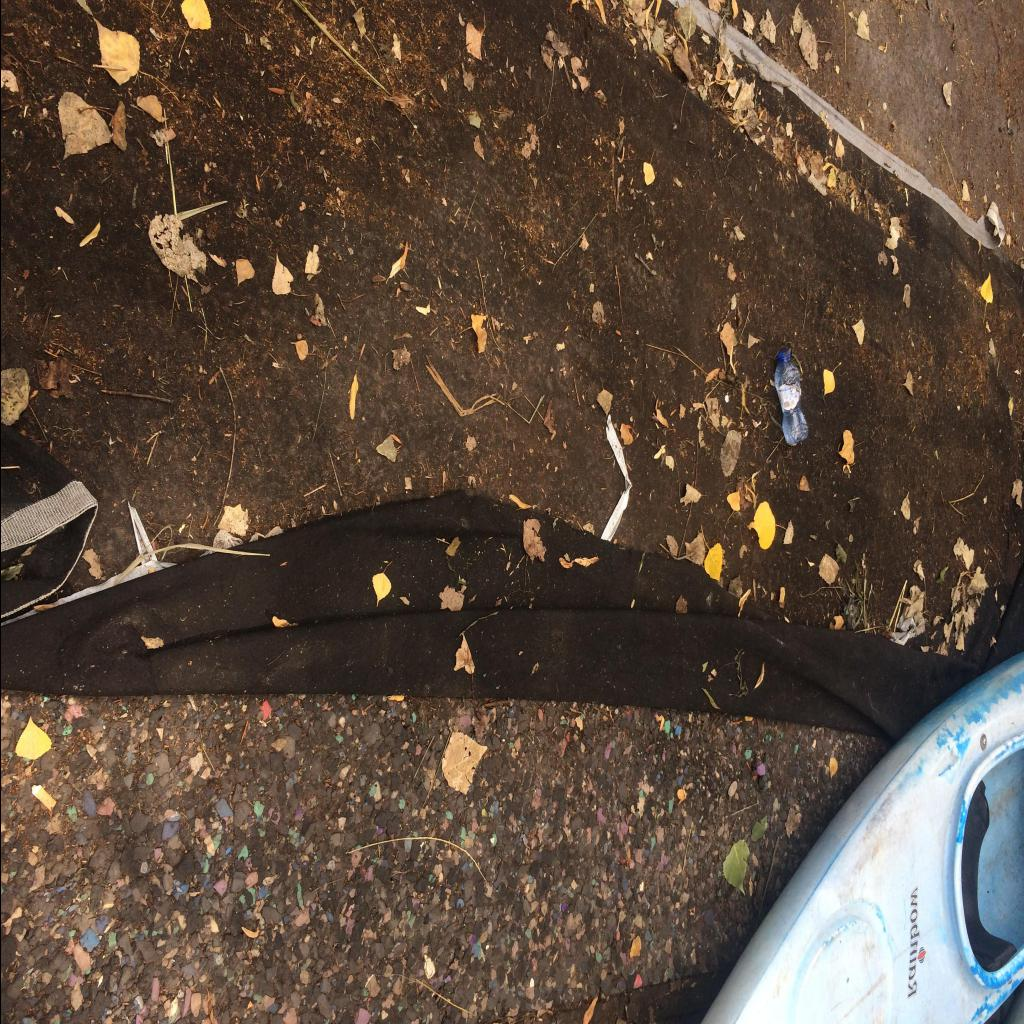Cigarette: (31, 784, 56, 810)
Clear plastic bottle: (773, 350, 807, 446)
Normal paper: (600, 414, 630, 542)
Plastic bottle cap: (777, 350, 789, 358)
